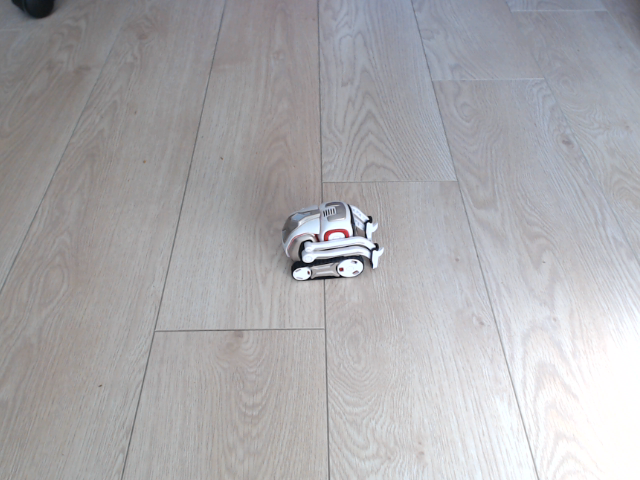cozmo: (280, 201, 385, 285)
